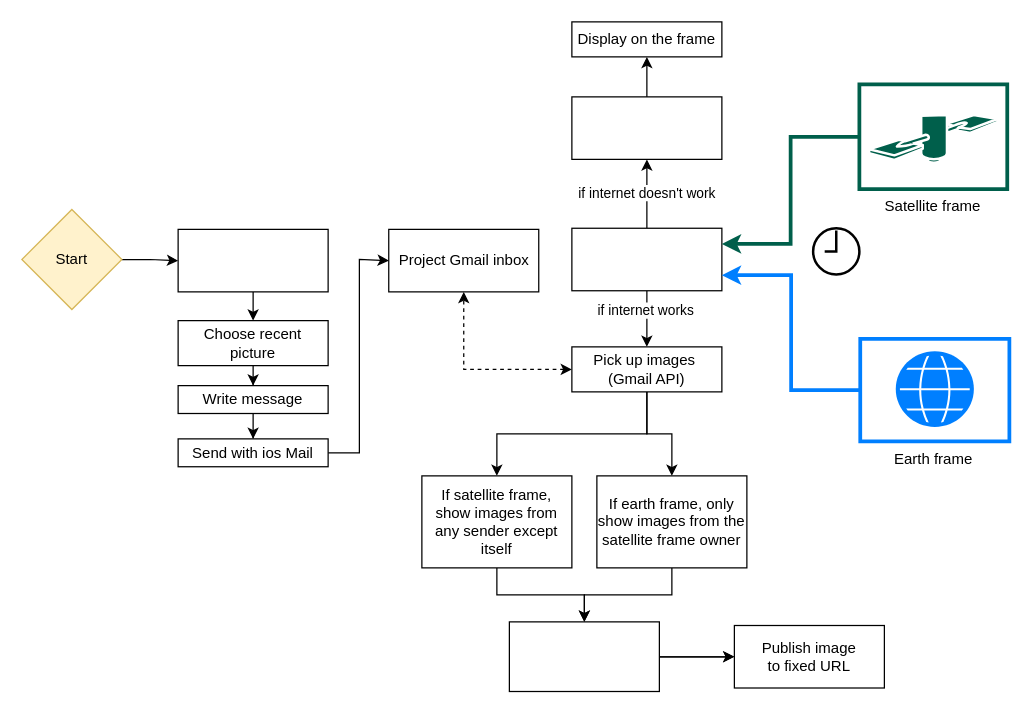
Image size: 1033x714. Some labels were removed from this diagram. Each missing label, with the box of its shape:
Click on iOS shortcut: (177, 228, 328, 292)
Every day: (811, 226, 860, 275)
Flask app on Google Cloud Run: (571, 227, 722, 291)
Pick a random local image stored on the sd card: (571, 96, 722, 159)
Rasterize, overlay text and convert to BW: (508, 621, 659, 692)
